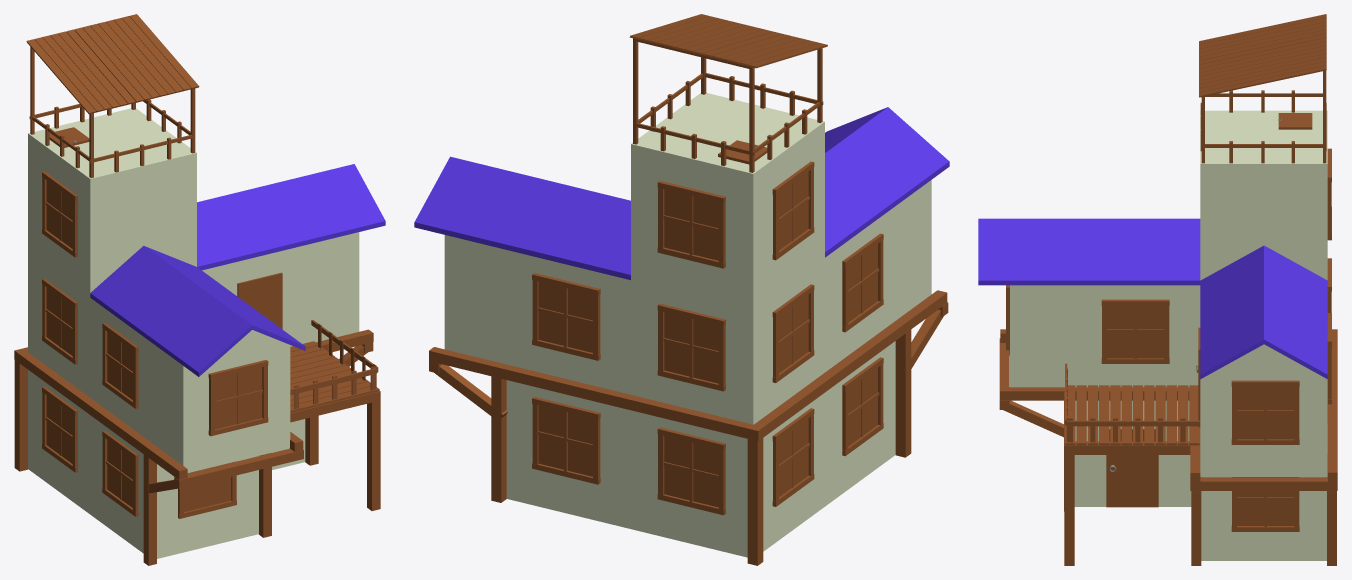
The model's file is MedievalHouse 1.fbx.
3 renders of one model, left to right at view 1: azimuth 30°, elevation 25°; view 2: azimuth 150°, elevation 25°; view 3: azimuth 270°, elevation 25°, orthographic. The views are drawn at different scales.
Parts seen in each view (by area): view 1: MedievalHouse_LOD0; view 2: MedievalHouse_LOD0; view 3: MedievalHouse_LOD0.
Part boxes in pixels (x1,y1,x2,y2): MedievalHouse_LOD0: [14, 14, 385, 565]; MedievalHouse_LOD0: [414, 14, 949, 565]; MedievalHouse_LOD0: [978, 14, 1337, 565].
Size of what is drawn, in the model's own units: 1131 by 1523 by 1129.
